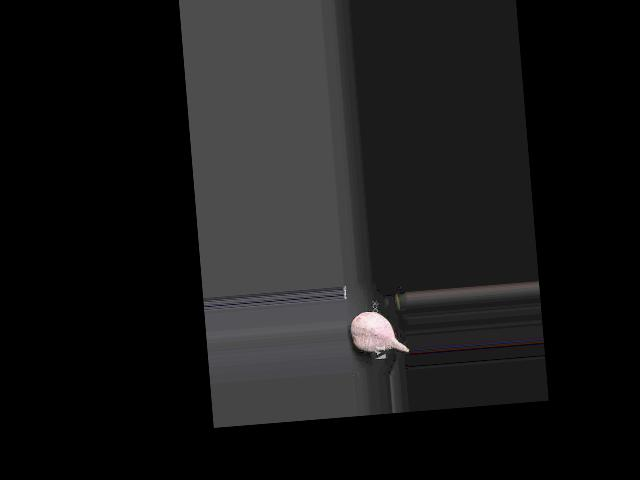beet: (349, 308, 408, 355)
